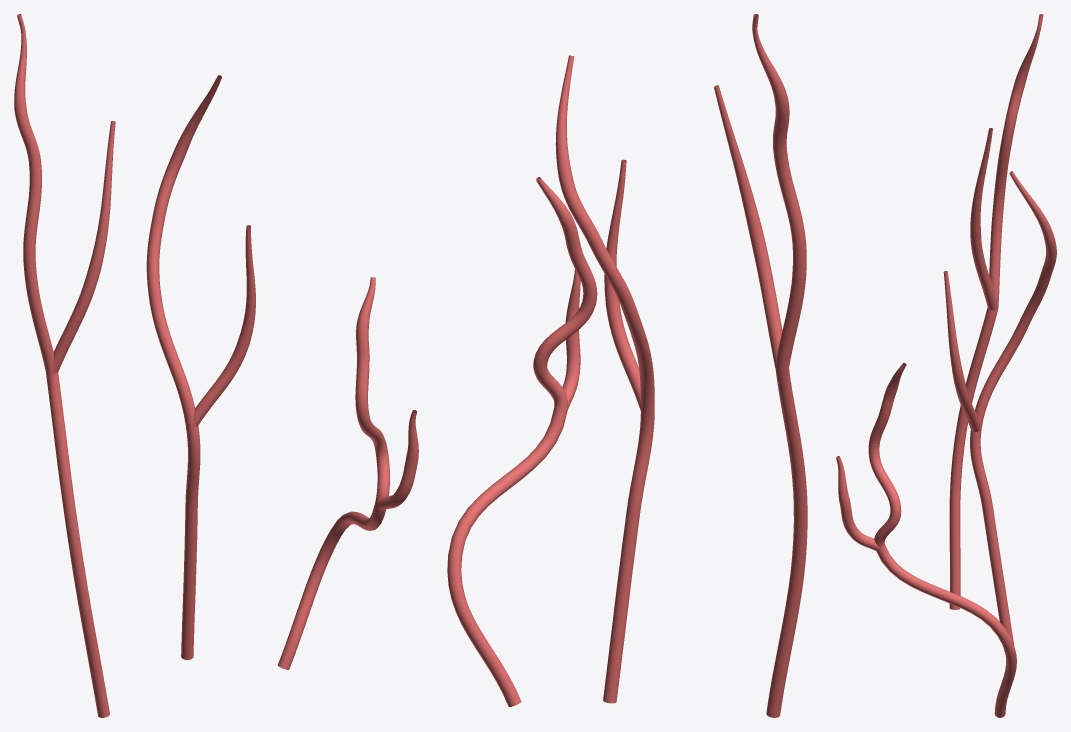
The model's file is Proximal_lateral_striate_branches.r_BezierCurve.276.glb.
The picture shows the model from 3 angles, left to right: view 1: azimuth 30°, elevation 25°; view 2: azimuth 150°, elevation 25°; view 3: azimuth 270°, elevation 25°; orthographic projection. The views are drawn at different scales.
Visible parts, largest first — view 1: Proximal_lateral_striate_branches.r_BezierCurve.276; view 2: Proximal_lateral_striate_branches.r_BezierCurve.276; view 3: Proximal_lateral_striate_branches.r_BezierCurve.276.
Part boxes in pixels (x1,y1,x2,y2): Proximal_lateral_striate_branches.r_BezierCurve.276: [14, 14, 418, 717]; Proximal_lateral_striate_branches.r_BezierCurve.276: [447, 14, 807, 717]; Proximal_lateral_striate_branches.r_BezierCurve.276: [836, 14, 1056, 717].
Bounding box in the file's own units: 0.00586 × 0.0122 × 0.00407.
